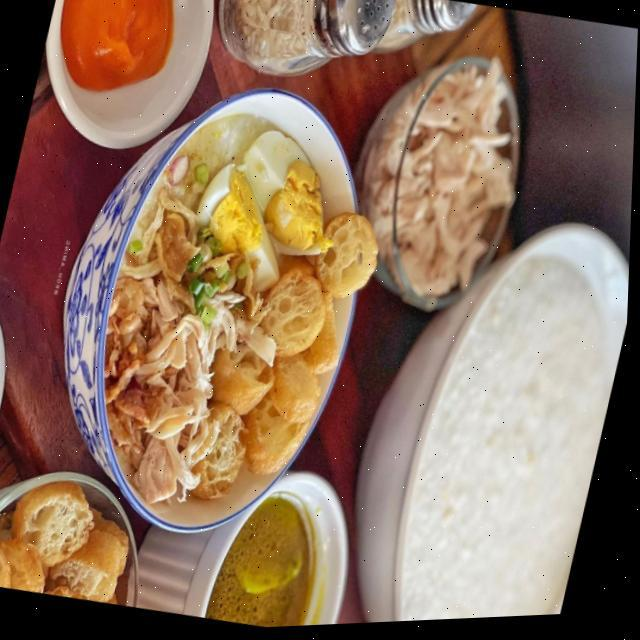bubur ayam: (65, 96, 408, 532)
mangkuk: (14, 50, 411, 566), (319, 188, 632, 624), (325, 32, 548, 326), (124, 438, 372, 634), (23, 0, 227, 167), (0, 442, 167, 614), (0, 292, 26, 515)
sambal: (43, 0, 193, 108)
telur rebus: (182, 152, 306, 296), (224, 124, 346, 255)
